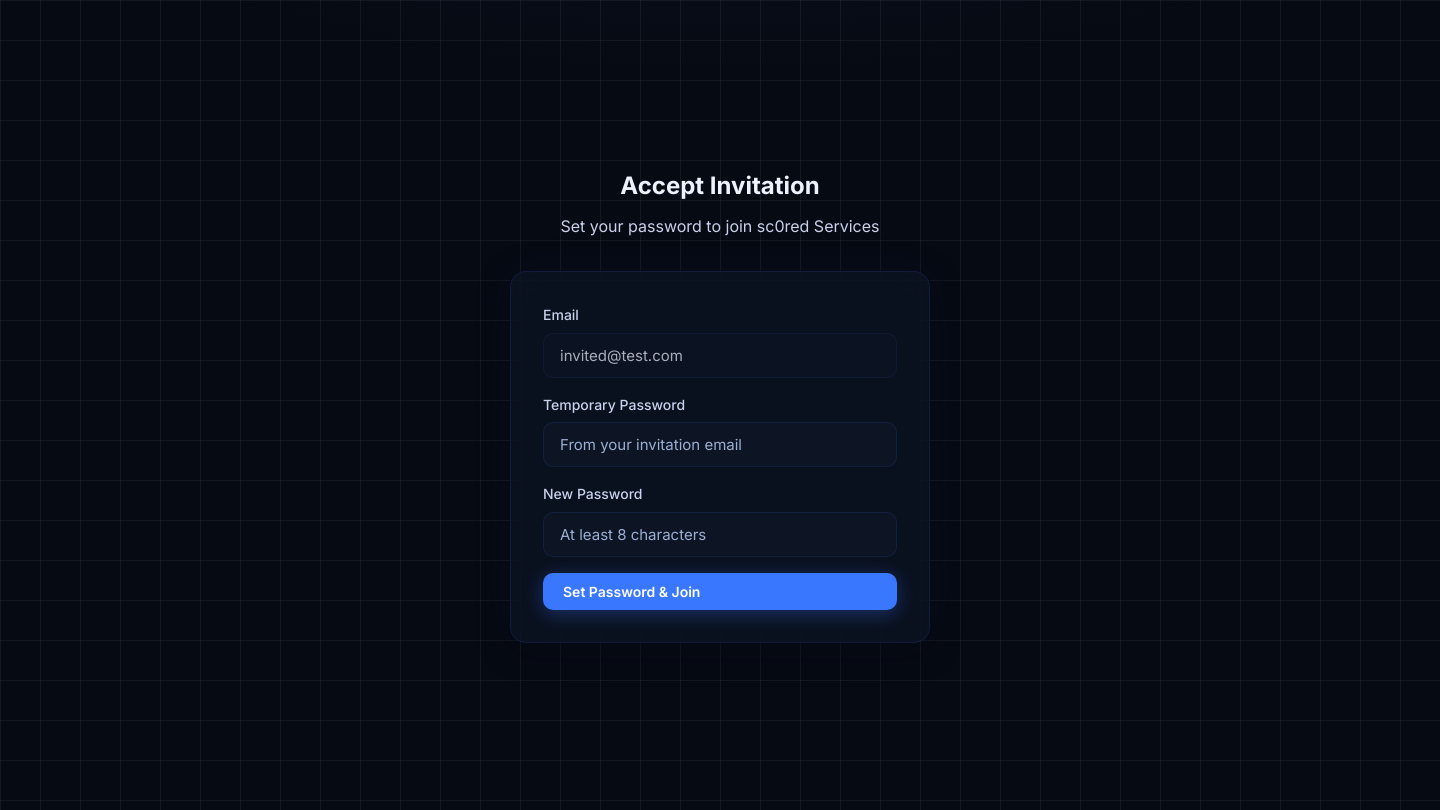
Scenario: AcceptInvitePage › shows error on authentication failure
Step 1. Type "wrong" into the password field labelled "Temporary Password" → (720, 445), box [543,422,897,467]
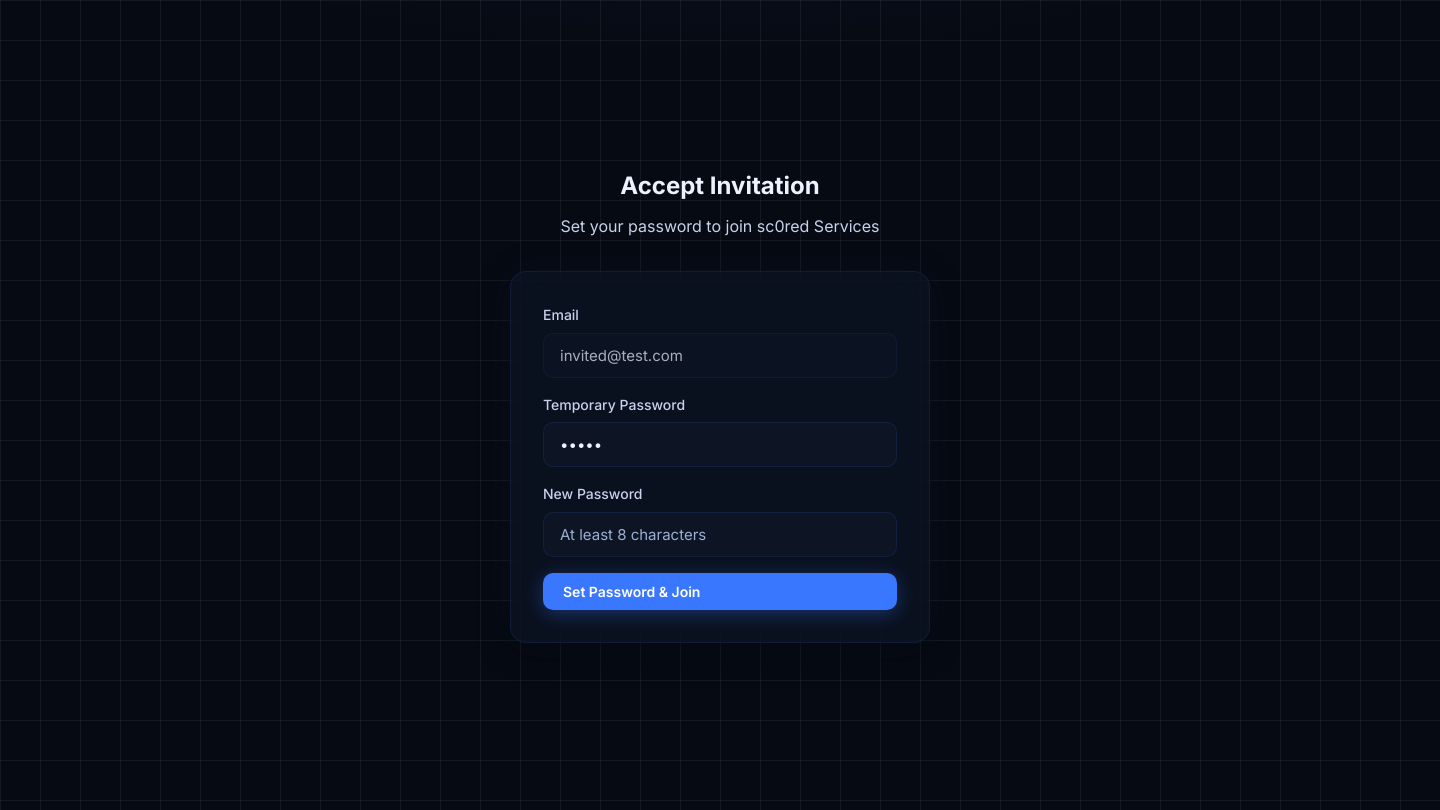
Step 2. Type "NewPass123" into the password field labelled "New Password" → (720, 534), box [543,512,897,557]
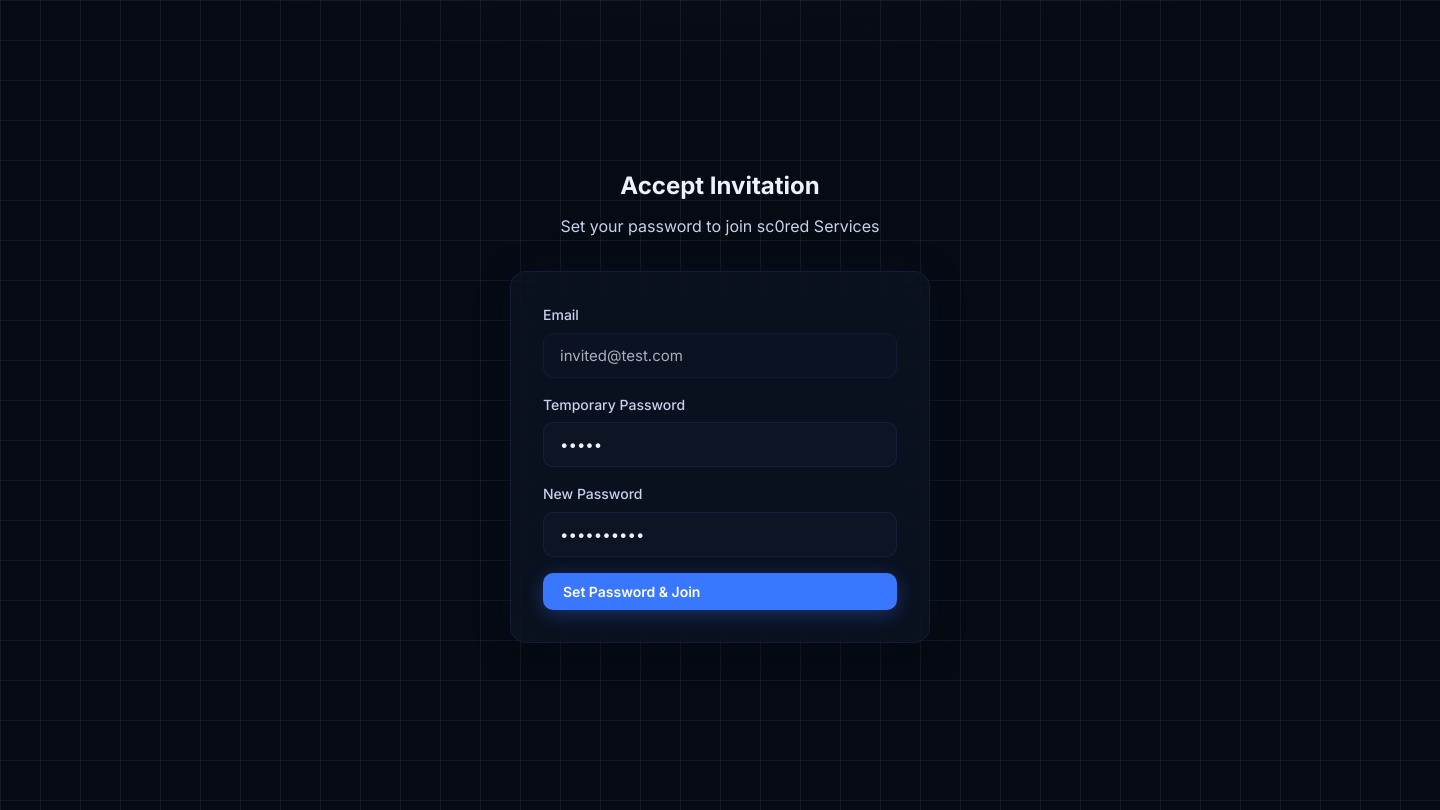
Step 3. Click the button "Set Password & Join" → (632, 591), box [543,573,897,610]
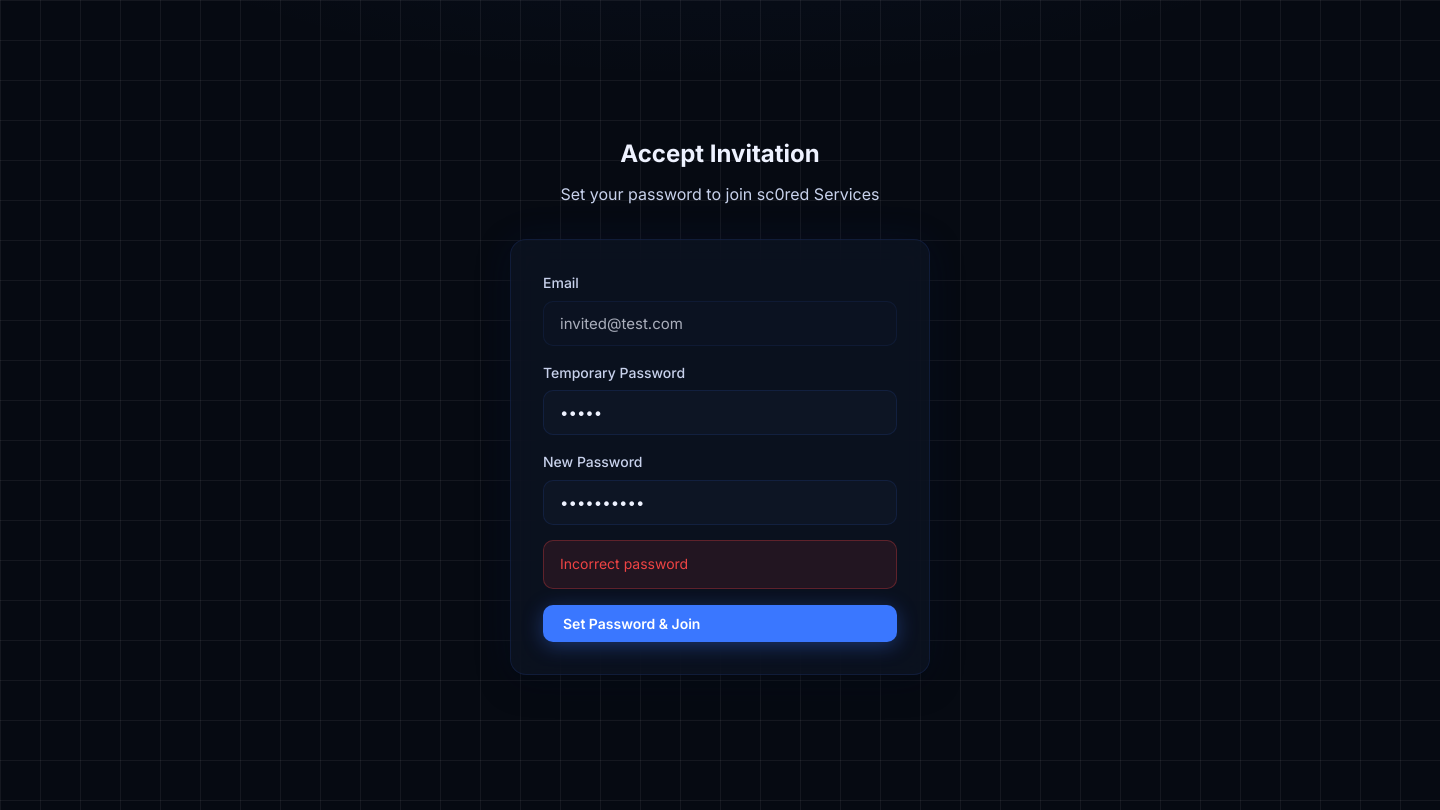
Expected: the text "Incorrect password" is shown, [543,540,897,589]
